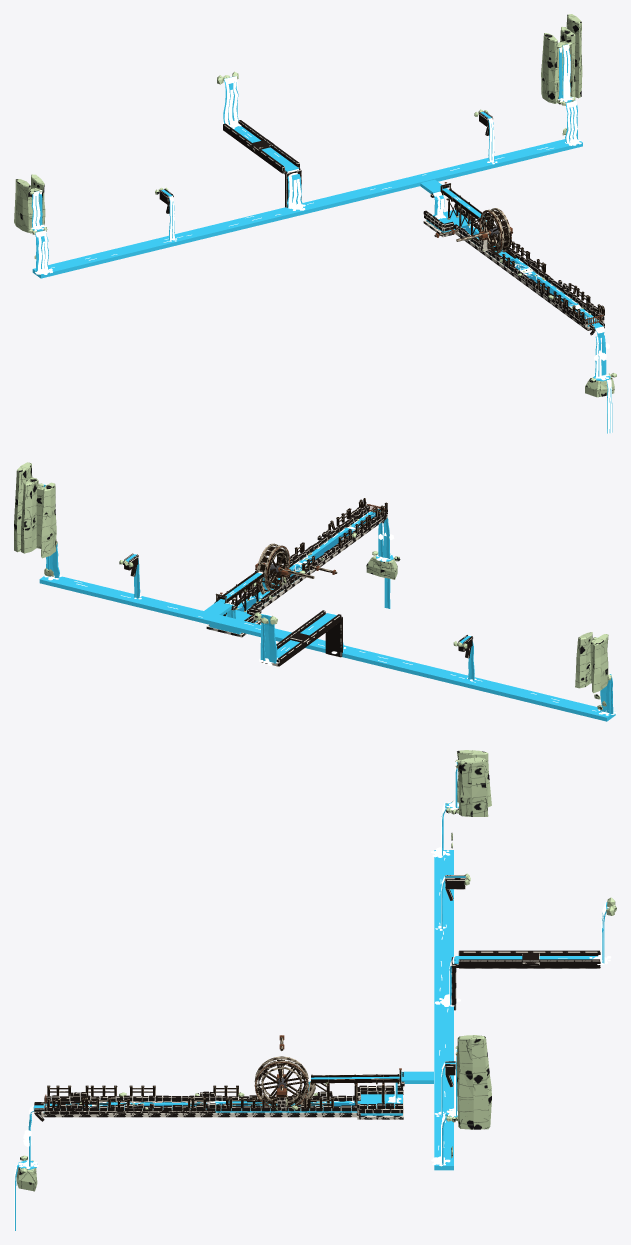
Rendered from LOBBY_05_WATER_SYSTEM_dd376e.fbx.
3 renders of one model, top to bottom at view 1: azimuth 30°, elevation 25°; view 2: azimuth 150°, elevation 25°; view 3: azimuth 270°, elevation 25°, orthographic. The views are drawn at different scales.
Parts seen in each view (by area): view 1: WATER_Waterfalls__Water, WATER_Waterfalls__Cliff_Rock, WATER_Waterfalls__Water_Fall, WATER_Pool_River__Water, WATER_Waterfalls__Stone_Light, WATER_Waterfalls__Cliff_Rock_Dark, WATER_Pool_River__Stone_Light, WATER_Waterfalls__Foam_g15_16, WATER_River_Fences__Wood_Dark_C, WATER_Waterwheel__Wood_Dark_B, WATER_Pool_River__Stone_Dark_B, WATER_Pool_River__Stone_Dark_C; view 2: WATER_Waterfalls__Water, WATER_Waterfalls__Cliff_Rock, WATER_Pool_River__Water, WATER_Waterfalls__Cliff_Rock_Dark, WATER_Waterfalls__Stone_Light, WATER_Waterfalls__Cliff_Rock_B, WATER_Waterwheel__Wood_Dark_B, WATER_River_Fences__Wood_Dark_C, WATER_Pool_River__Stone_Light, WATER_Waterfalls__Stone_Dark, WATER_Pool_River__Stone_Dark_B, WATER_Pool_River__Stone_Dark_C (+5 smaller); view 3: WATER_Waterfalls__Water, WATER_Waterfalls__Cliff_Rock, WATER_Waterfalls__Stone_Light, WATER_Pool_River__Stone_Dark_C, WATER_Pool_River__Stone_Light, WATER_Pool_River__Water, WATER_Waterfalls__Cliff_Rock_B, WATER_Pool_River__Stone_Dark_B, WATER_River_Fences__Wood_Dark_C, WATER_Pool_River__Stone_Light_B, WATER_Waterwheel__Wood_Dark_B, WATER_Pool_River__Wood_Plank_C (+3 smaller).
Boxes of the visible parts, x1=… form: WATER_Waterfalls__Water: x1=31, y1=44, x2=582, y2=278; WATER_Waterfalls__Cliff_Rock: x1=29, y1=14, x2=582, y2=231; WATER_Waterfalls__Water_Fall: x1=32, y1=50, x2=577, y2=270; WATER_Pool_River__Water: x1=426, y1=190, x2=612, y2=433; WATER_Waterfalls__Stone_Light: x1=159, y1=111, x2=492, y2=205; WATER_Waterfalls__Cliff_Rock_Dark: x1=14, y1=41, x2=571, y2=258; WATER_Pool_River__Stone_Light: x1=427, y1=204, x2=604, y2=328; WATER_Waterfalls__Foam_g15_16: x1=31, y1=76, x2=298, y2=274; WATER_River_Fences__Wood_Dark_C: x1=493, y1=227, x2=604, y2=320; WATER_Waterwheel__Wood_Dark_B: x1=434, y1=208, x2=511, y2=253; WATER_Pool_River__Stone_Dark_B: x1=423, y1=207, x2=604, y2=335; WATER_Pool_River__Stone_Dark_C: x1=427, y1=217, x2=591, y2=330; WATER_Waterfalls__Water: x1=39, y1=484, x2=615, y2=721; WATER_Waterfalls__Cliff_Rock: x1=14, y1=462, x2=467, y2=648; WATER_Pool_River__Water: x1=209, y1=509, x2=393, y2=634; WATER_Waterfalls__Cliff_Rock_Dark: x1=36, y1=486, x2=608, y2=709; WATER_Waterfalls__Stone_Light: x1=124, y1=553, x2=472, y2=666; WATER_Waterfalls__Cliff_Rock_B: x1=575, y1=632, x2=611, y2=688; WATER_Waterwheel__Wood_Dark_B: x1=257, y1=543, x2=337, y2=591; WATER_River_Fences__Wood_Dark_C: x1=239, y1=498, x2=387, y2=597; WATER_Pool_River__Stone_Light: x1=227, y1=507, x2=387, y2=622; WATER_Waterfalls__Stone_Dark: x1=130, y1=556, x2=473, y2=666; WATER_Pool_River__Stone_Dark_B: x1=206, y1=505, x2=387, y2=637; WATER_Pool_River__Stone_Dark_C: x1=250, y1=515, x2=387, y2=622; WATER_Waterfalls__Water: x1=395, y1=762, x2=607, y2=1170; WATER_Waterfalls__Cliff_Rock: x1=446, y1=759, x2=615, y2=1129; WATER_Waterfalls__Stone_Light: x1=400, y1=875, x2=600, y2=1086; WATER_Pool_River__Stone_Dark_C: x1=41, y1=1084, x2=394, y2=1117; WATER_Pool_River__Stone_Light: x1=34, y1=1085, x2=403, y2=1114; WATER_Pool_River__Water: x1=15, y1=1076, x2=402, y2=1230; WATER_Waterfalls__Cliff_Rock_B: x1=446, y1=757, x2=488, y2=1110; WATER_Pool_River__Stone_Dark_B: x1=34, y1=1091, x2=403, y2=1121; WATER_River_Fences__Wood_Dark_C: x1=47, y1=1085, x2=334, y2=1108; WATER_Pool_River__Stone_Light_B: x1=44, y1=1085, x2=403, y2=1114; WATER_Waterwheel__Wood_Dark_B: x1=254, y1=1037, x2=308, y2=1105; WATER_Pool_River__Wood_Plank_C: x1=293, y1=1074, x2=399, y2=1105.
Size of the model in its own units: 266 by 108 by 208.
10 materials, 4 textured.
